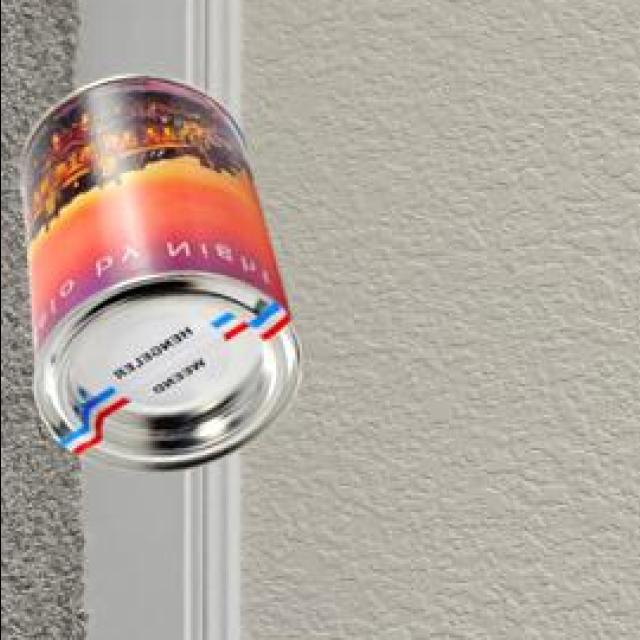logam: (23, 77, 307, 475)
